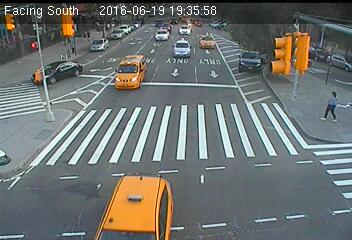neg: (106, 98, 139, 143), (169, 126, 194, 159), (306, 28, 330, 61), (246, 58, 267, 87), (19, 92, 38, 118)
pos: (319, 88, 346, 124), (62, 35, 78, 56), (80, 27, 92, 44)
